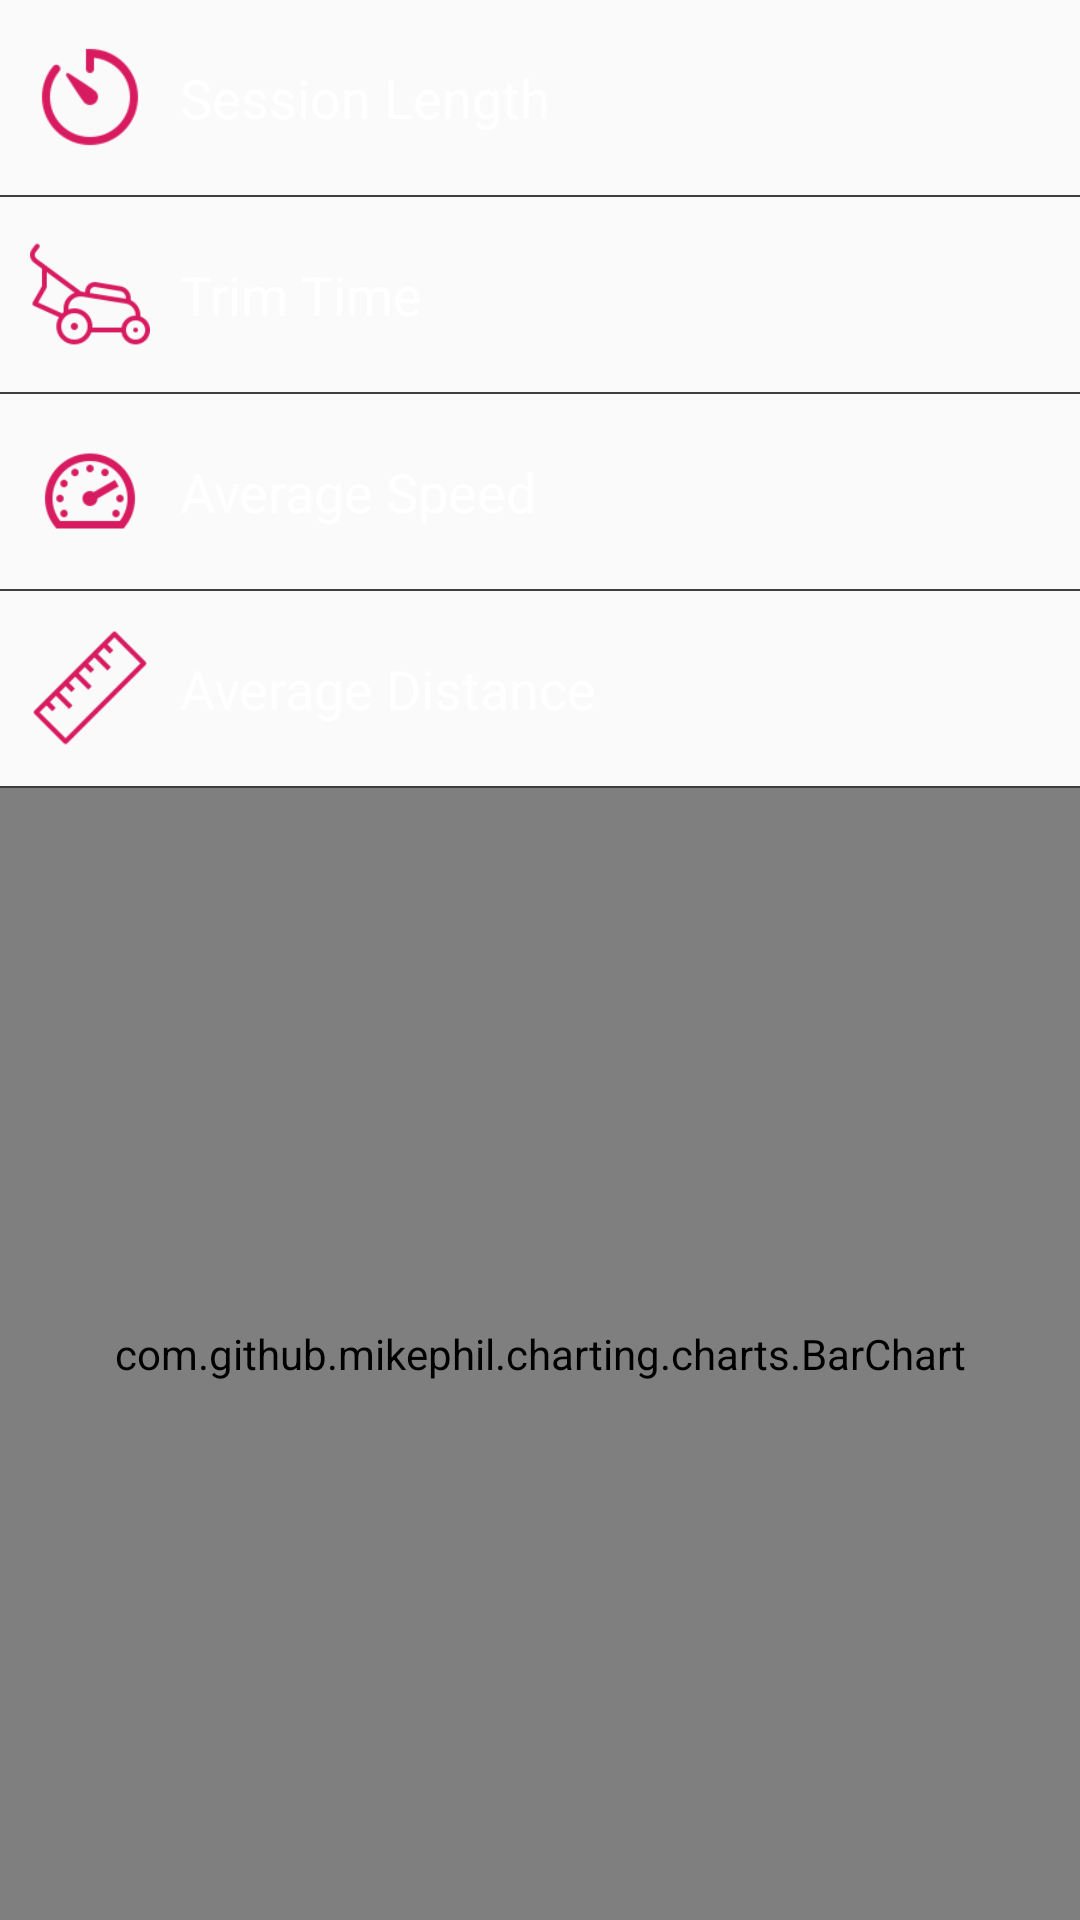

Screen size 1080 × 1920. Icon name, then its box in pixels as detection(x1, y1, x2, y2):
lawn mower: detection(30, 243, 150, 345)
ruler: detection(33, 631, 147, 745)
timer: detection(41, 48, 139, 146)
